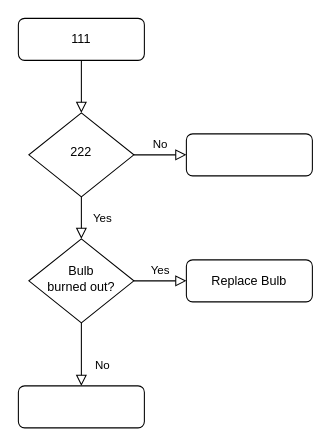
Image size: 331x446. Some labels were removed from this diagram. Each missing label, with the box of its shape:
Plug in lamp: (185, 133, 312, 176)
Repair Lamp: (17, 385, 144, 428)
